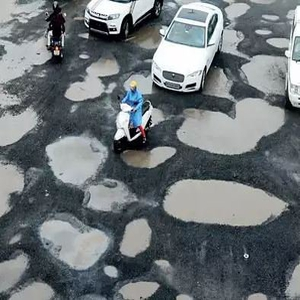pothole: (161, 174, 292, 230), (177, 100, 289, 154), (36, 212, 113, 272), (44, 131, 109, 179), (240, 49, 291, 100), (67, 54, 119, 102), (79, 181, 137, 211), (117, 215, 154, 258), (121, 147, 175, 166), (224, 4, 247, 20)
